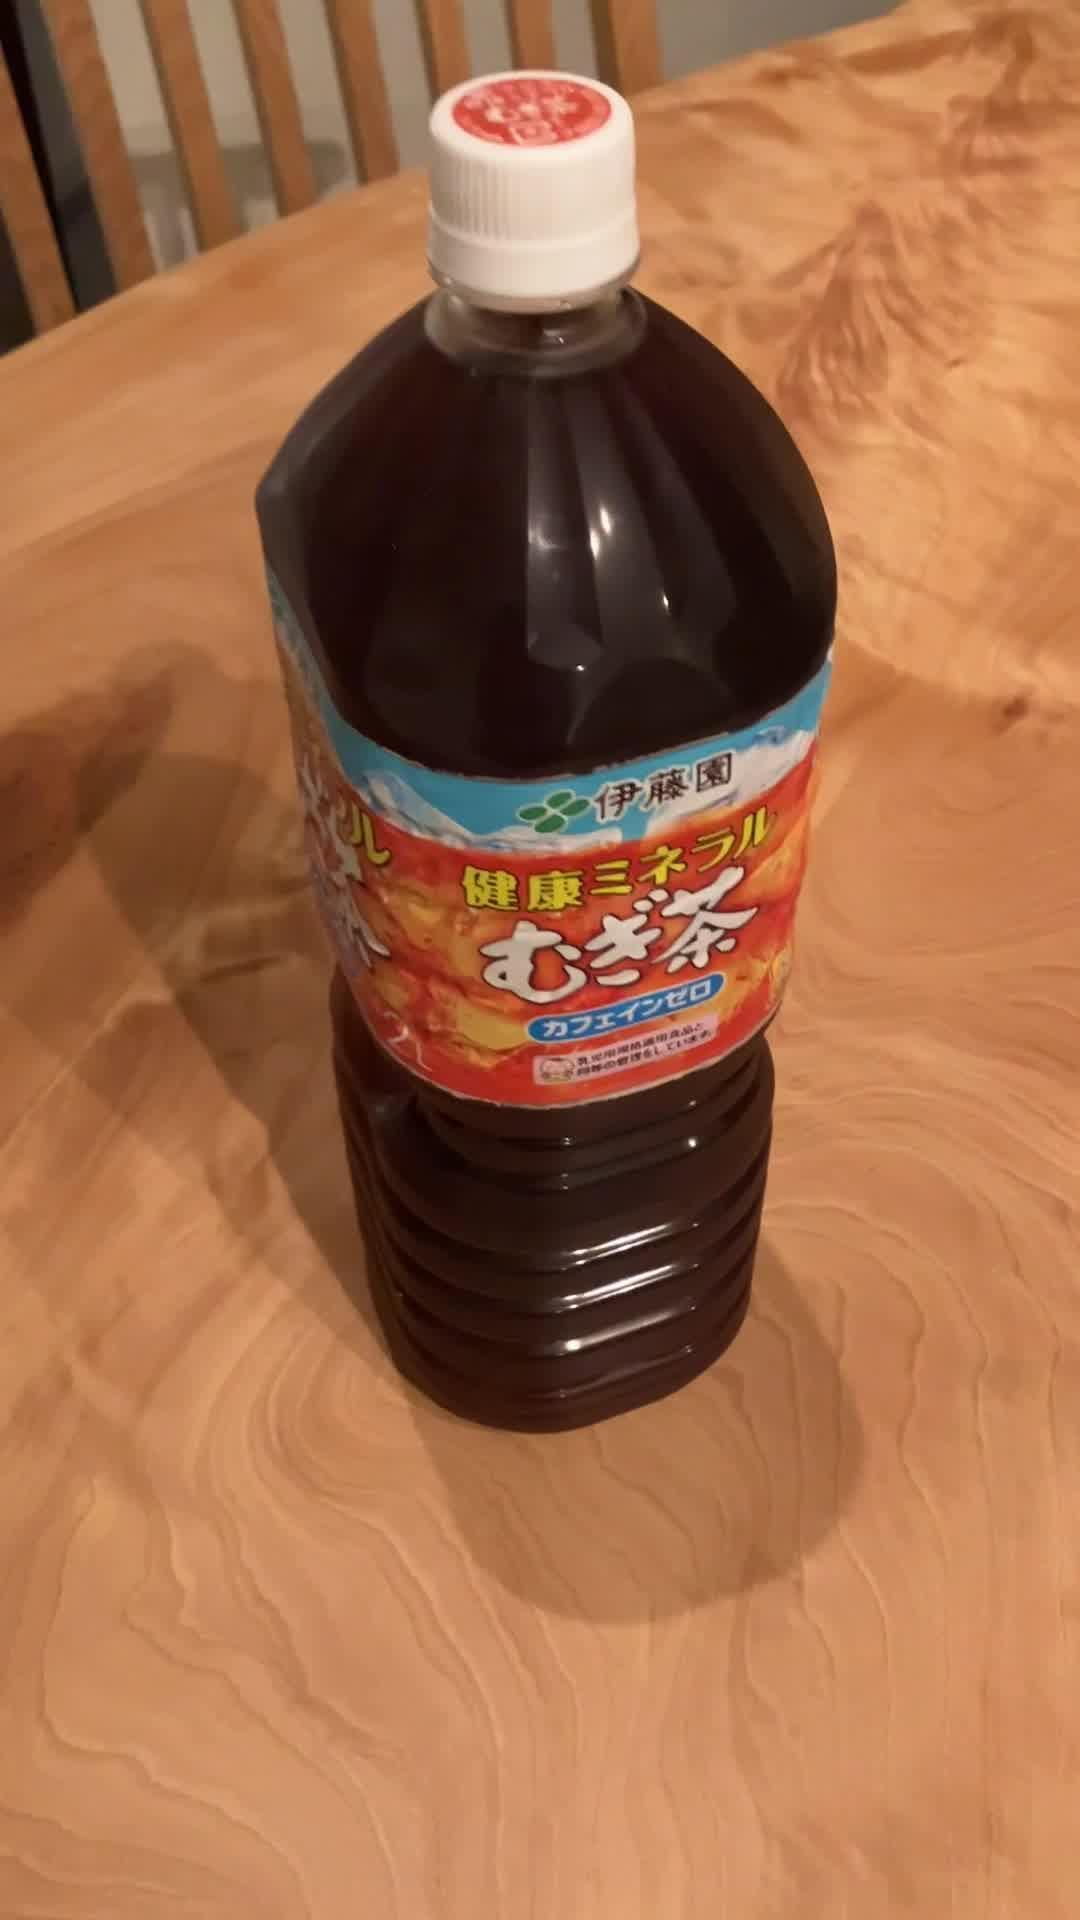BIODEGRADABLE: (251, 66, 843, 1443)
